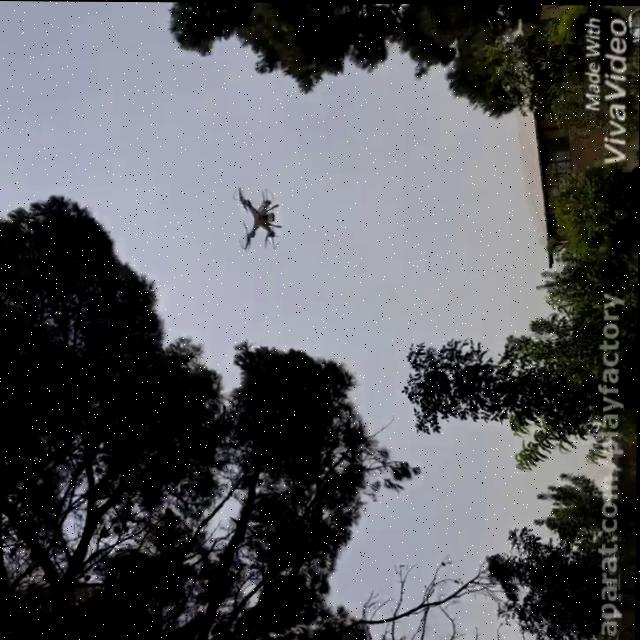drone: (230, 183, 281, 254)
